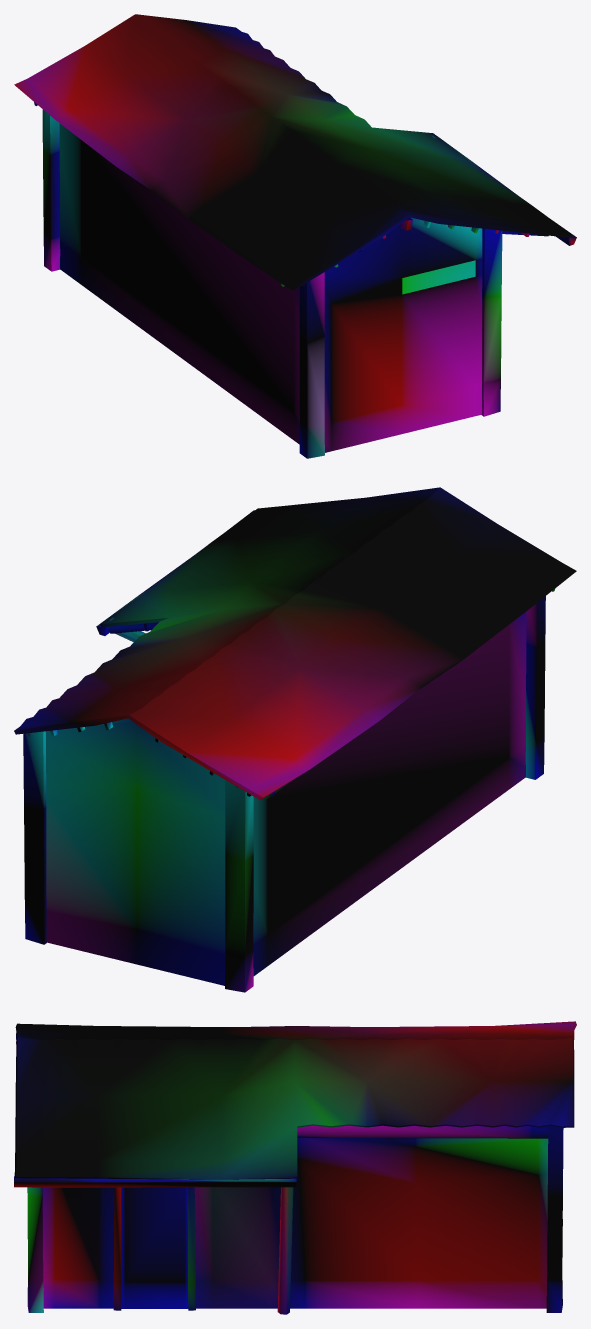
The model's file is Test_Building_Blue_for_AO.fbx.
The picture shows the model from 3 angles, top to bottom: view 1: azimuth 30°, elevation 25°; view 2: azimuth 150°, elevation 25°; view 3: azimuth 270°, elevation 25°; orthographic projection. The views are drawn at different scales.
Visible parts, largest first — view 1: Test_Building .003, Test_Building .002, Test_Building .005; view 2: Test_Building .003, Test_Building .002, Test_Building .005; view 3: Test_Building .003, Test_Building .002, Test_Building .006, Test_Building .001, Test_Building .005, Test_Building .004.
Part boxes in pixels (left/top/right/bottom): Test_Building .003: left=14, top=14, right=571, bottom=290; Test_Building .002: left=59, top=123, right=482, bottom=452; Test_Building .005: left=42, top=109, right=502, bottom=458; Test_Building .003: left=14, top=487, right=576, bottom=800; Test_Building .002: left=46, top=612, right=526, bottom=985; Test_Building .005: left=23, top=596, right=545, bottom=992; Test_Building .003: left=14, top=1021, right=576, bottom=1179; Test_Building .002: left=42, top=1138, right=548, bottom=1308; Test_Building .006: left=121, top=1187, right=188, bottom=1308; Test_Building .001: left=16, top=1041, right=565, bottom=1310; Test_Building .005: left=27, top=1126, right=563, bottom=1312; Test_Building .004: left=14, top=1172, right=296, bottom=1314.
Size of the model in its own units: 127 by 95.65 by 214.
